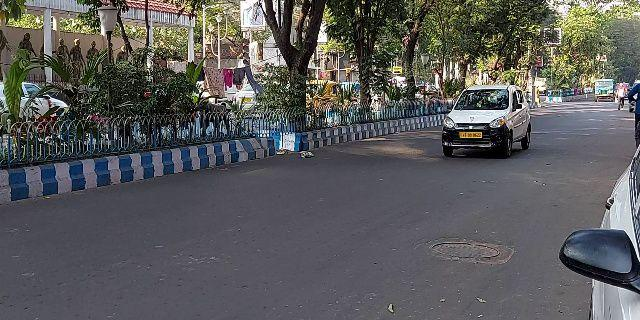Car: (440, 84, 535, 160)
